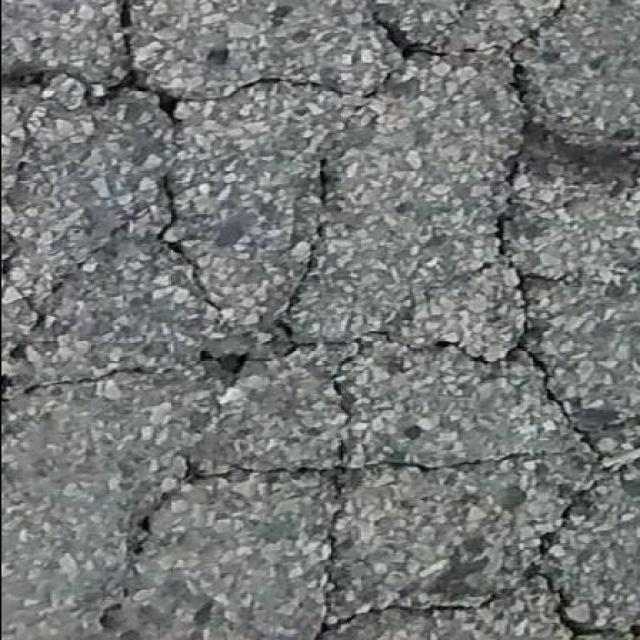Crack: (100, 336, 565, 640), (362, 290, 640, 612), (111, 185, 221, 338), (504, 101, 640, 205), (84, 312, 292, 379), (69, 0, 148, 108), (201, 80, 370, 120), (28, 236, 108, 311), (369, 4, 466, 59), (494, 0, 562, 78), (549, 589, 640, 635), (0, 316, 38, 400), (149, 88, 190, 165), (301, 140, 322, 280), (518, 271, 580, 286), (0, 78, 70, 89), (9, 112, 26, 156), (493, 236, 514, 271), (27, 382, 75, 392), (432, 51, 468, 58), (495, 210, 505, 229)
